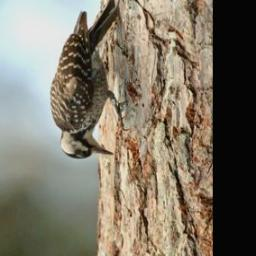Woodpecker: (49, 0, 131, 164)
